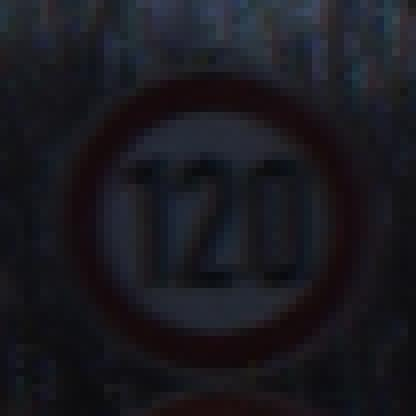Speed Limit 120: (80, 78, 361, 368)
